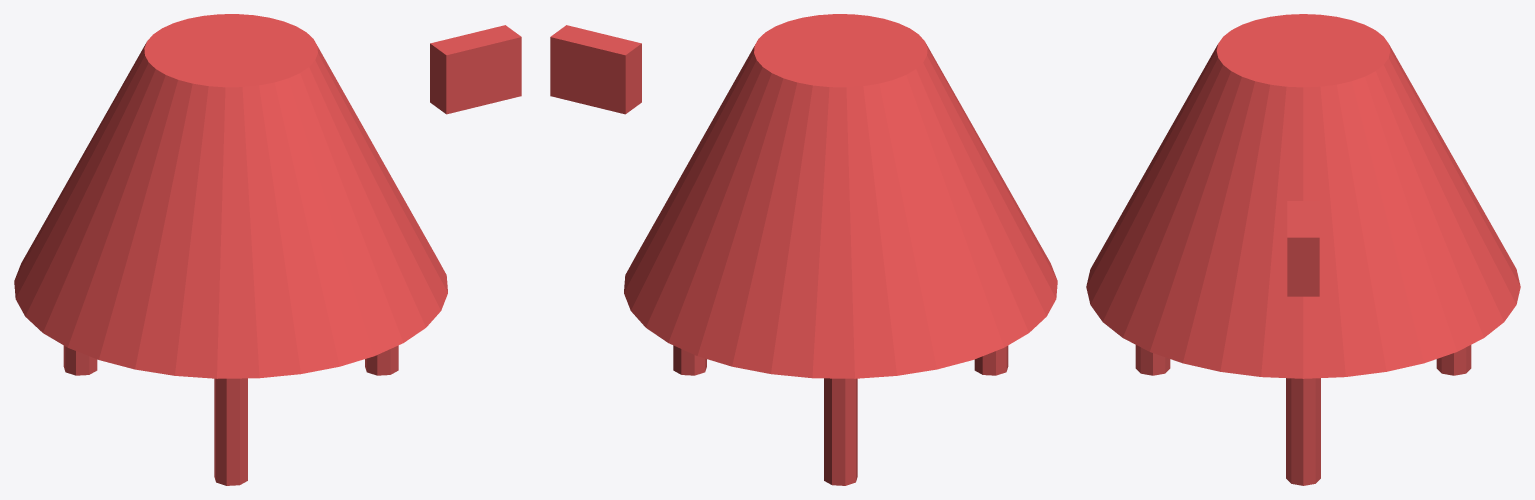
File: dripper.glb
The picture shows the model from 3 angles, left to right: view 1: azimuth 30°, elevation 25°; view 2: azimuth 150°, elevation 25°; view 3: azimuth 270°, elevation 25°; orthographic projection.
Parts seen in each view (by area): view 1: Dripper, Dripper_Tab, Dripper_Leg2, Dripper_Leg1, Dripper_Leg0; view 2: Dripper, Dripper_Tab, Dripper_Leg1, Dripper_Leg2, Dripper_Leg0; view 3: Dripper, Dripper_Leg0, Dripper_Tab, Dripper_Leg1, Dripper_Leg2.
Part boxes in pixels (bbox=[...]): Dripper: bbox=[14, 14, 447, 378]; Dripper_Tab: bbox=[430, 25, 521, 114]; Dripper_Leg2: bbox=[214, 378, 247, 485]; Dripper_Leg1: bbox=[63, 345, 97, 375]; Dripper_Leg0: bbox=[365, 345, 398, 375]; Dripper: bbox=[624, 14, 1057, 378]; Dripper_Tab: bbox=[550, 25, 641, 114]; Dripper_Leg1: bbox=[824, 378, 857, 485]; Dripper_Leg2: bbox=[974, 345, 1008, 375]; Dripper_Leg0: bbox=[673, 345, 706, 375]; Dripper: bbox=[1086, 14, 1520, 378]; Dripper_Leg0: bbox=[1286, 378, 1320, 485]; Dripper_Tab: bbox=[1287, 201, 1319, 296]; Dripper_Leg1: bbox=[1436, 345, 1471, 375]; Dripper_Leg2: bbox=[1135, 345, 1170, 375].
Size of the model in its own units: 0.25 by 0.18 by 0.2.
